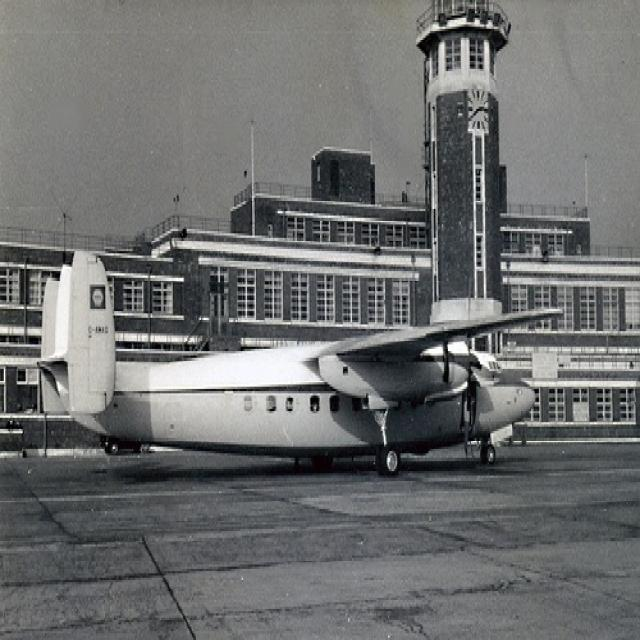aeroplane: (38, 249, 539, 478)
